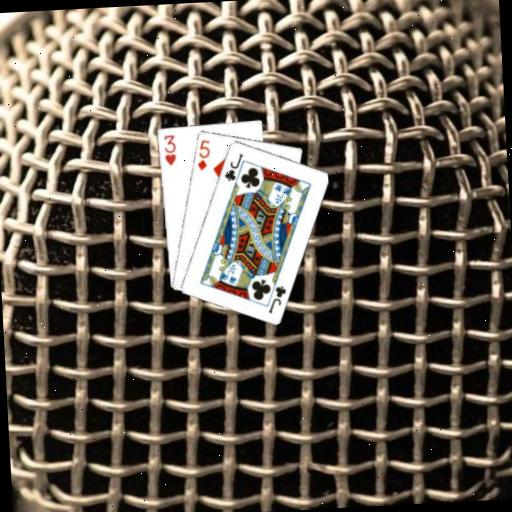3H: (161, 131, 178, 167)
5D: (193, 136, 213, 172)
JC: (220, 150, 246, 183), (264, 282, 290, 315)
